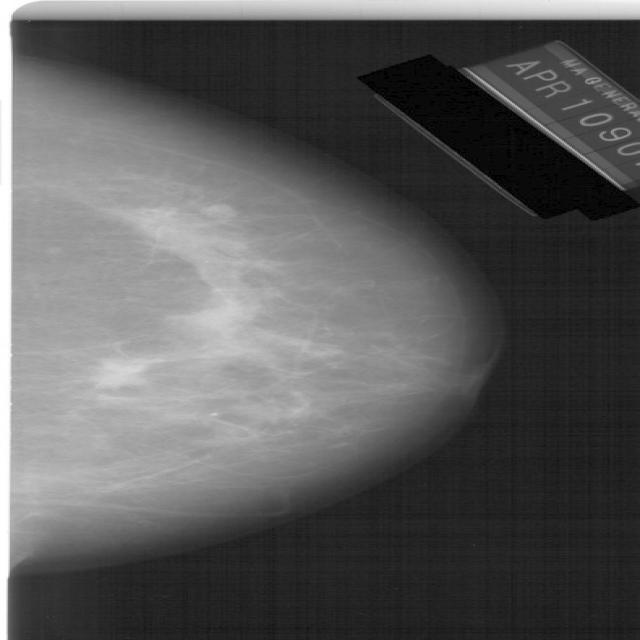tumour: (89, 355, 149, 391)
